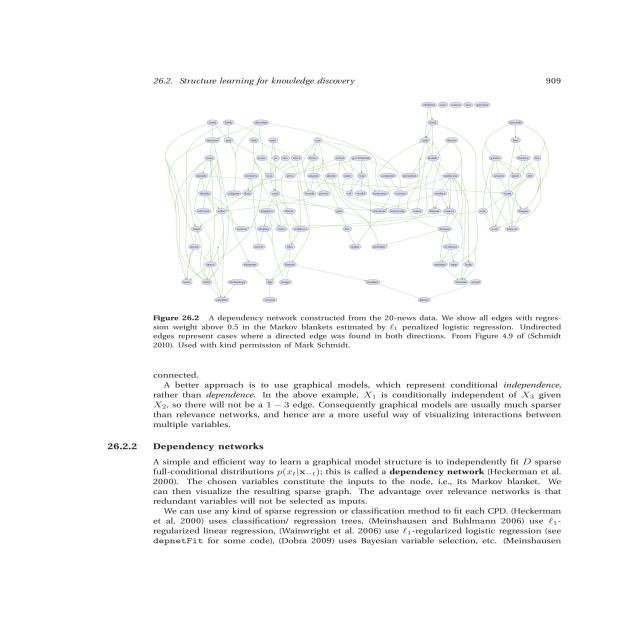diagram: (124, 90, 612, 362)
